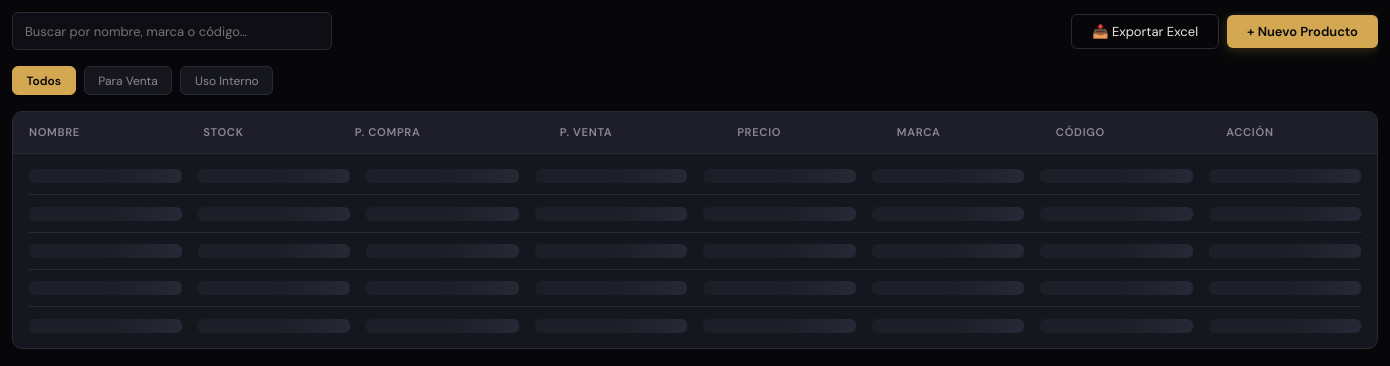
Test: ProductosPage — Exportar Excel › un error blob del servidor muestra el mensaje y no descarga
The width and height of the screenshot is (1390, 366).
Click the button "📥 Exportar Excel": [1145, 31] box [1071,14,1219,48]
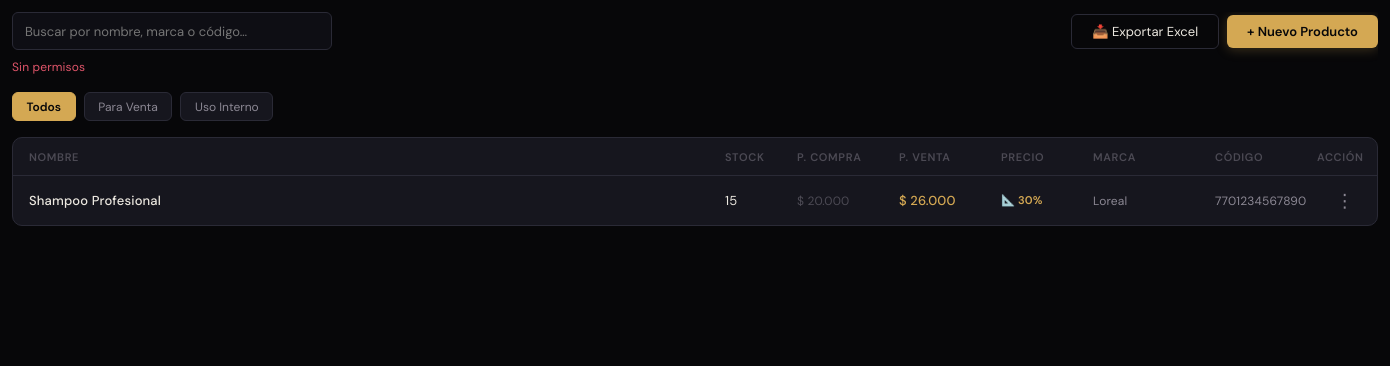
Now the text "Sin permisos" is shown, box [12,59,85,75]
